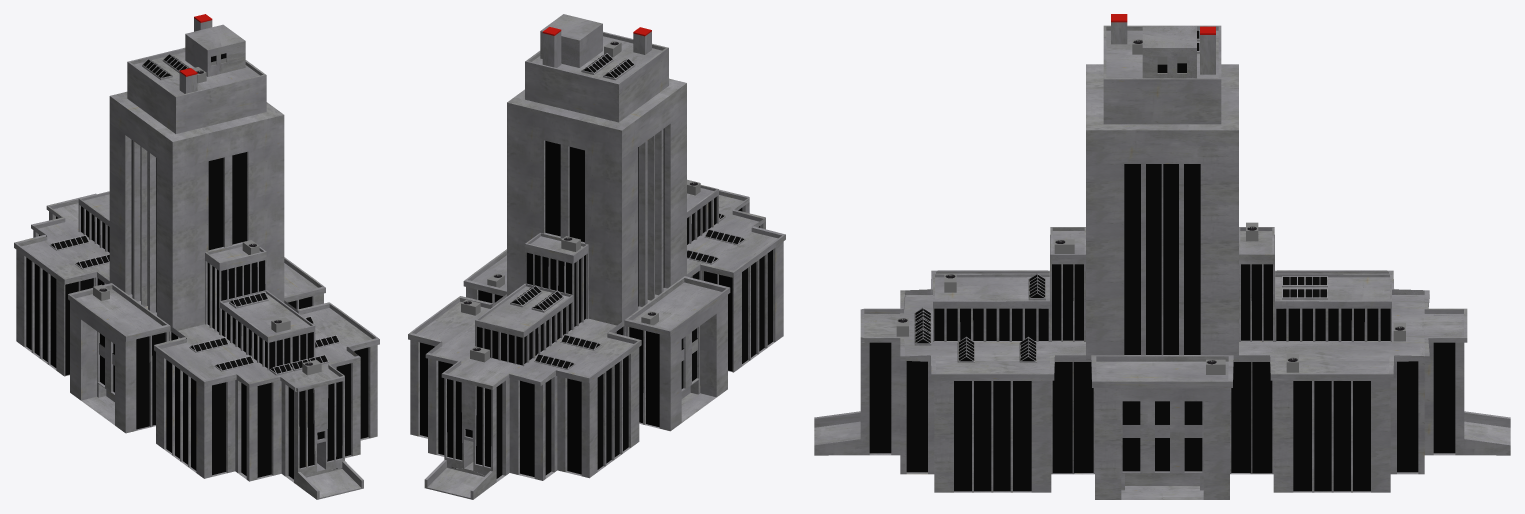
Rendered from uploads_files_2533658_CCPD.obj.
The picture shows the model from 3 angles, left to right: view 1: azimuth 30°, elevation 25°; view 2: azimuth 150°, elevation 25°; view 3: azimuth 270°, elevation 25°; orthographic projection. The views are drawn at different scales.
Parts seen in each view (by area): view 1: CS_Cube.001_concreate, CS_Cube.001_glass, CS_Cube.001_Material; view 2: CS_Cube.001_concreate, CS_Cube.001_glass, CS_Cube.001_Material; view 3: CS_Cube.001_concreate, CS_Cube.001_glass, CS_Cube.001_Material.
Part boxes in pixels (x1,y1,x2,y2): CS_Cube.001_concreate: [14, 18, 379, 499]; CS_Cube.001_glass: [26, 53, 368, 479]; CS_Cube.001_Material: [93, 58, 321, 375]; CS_Cube.001_concreate: [408, 14, 785, 499]; CS_Cube.001_glass: [420, 54, 772, 478]; CS_Cube.001_Material: [461, 40, 700, 362]; CS_Cube.001_concreate: [814, 22, 1510, 499]; CS_Cube.001_glass: [869, 30, 1455, 491]; CS_Cube.001_Material: [896, 39, 1405, 374].
Bounding box in the file's own units: 4.49 × 7.52 × 11.13.
